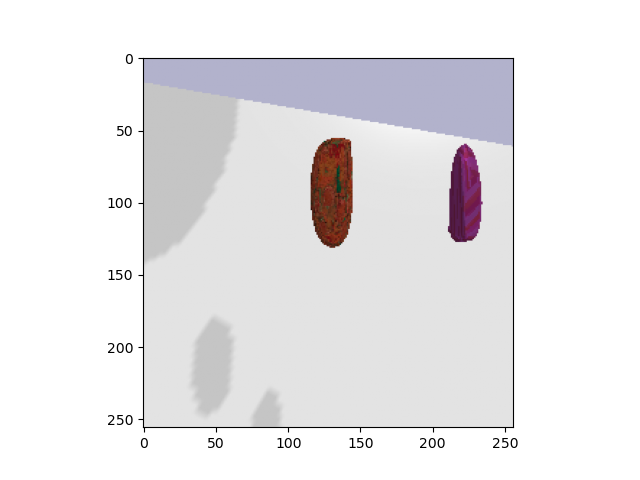v249b387_105: (442, 142, 489, 249)
v249b387_106: (304, 130, 363, 253)
